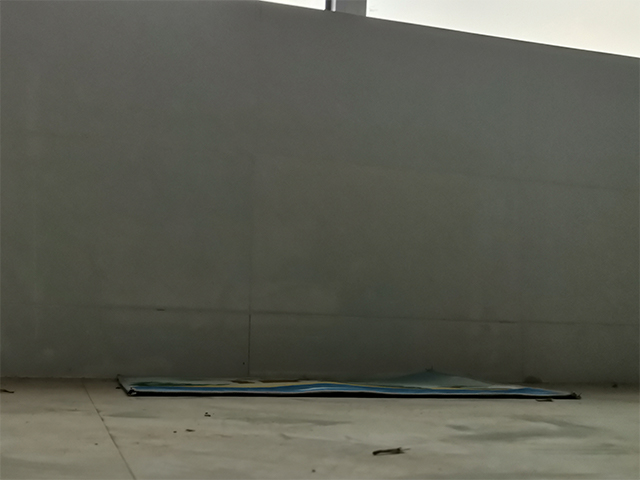carpet: (113, 365, 582, 400)
